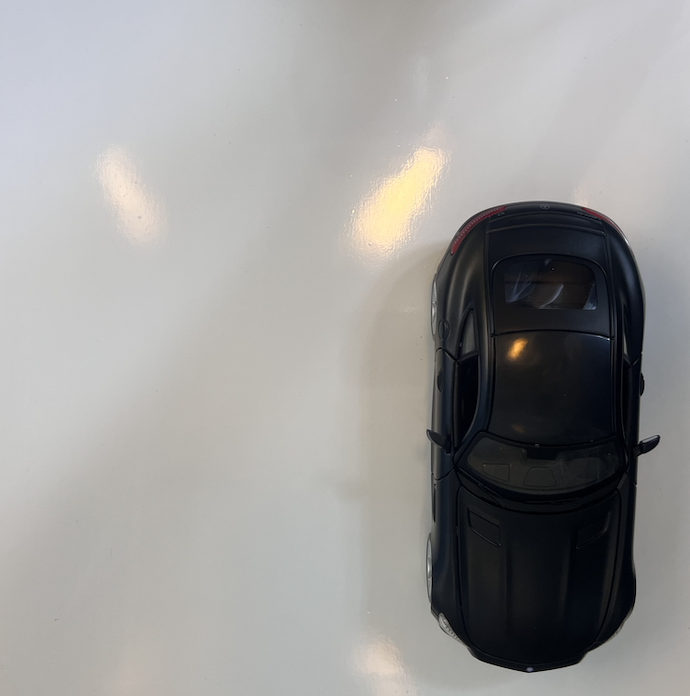car: (424, 200, 660, 670)
